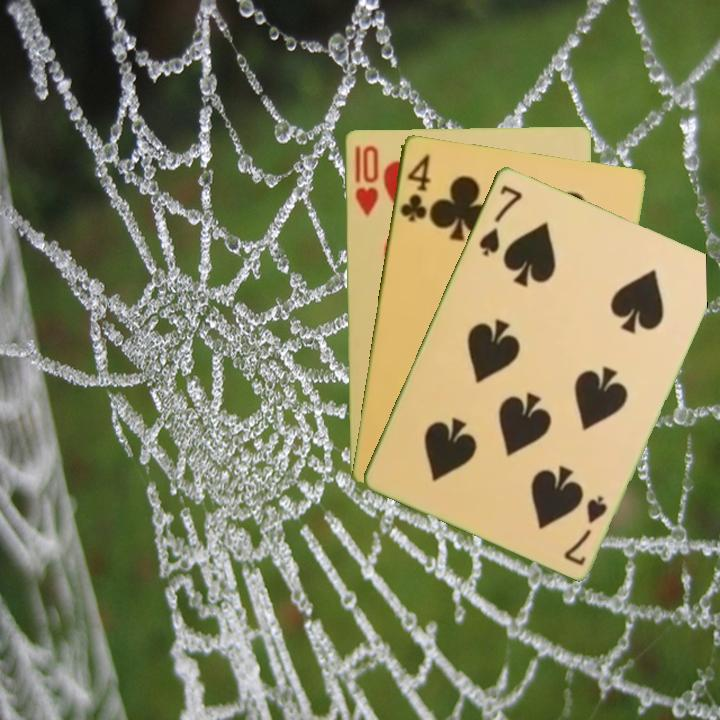10h: (351, 141, 381, 219)
4c: (396, 149, 433, 224)
7s: (474, 181, 525, 259), (560, 491, 610, 568)
